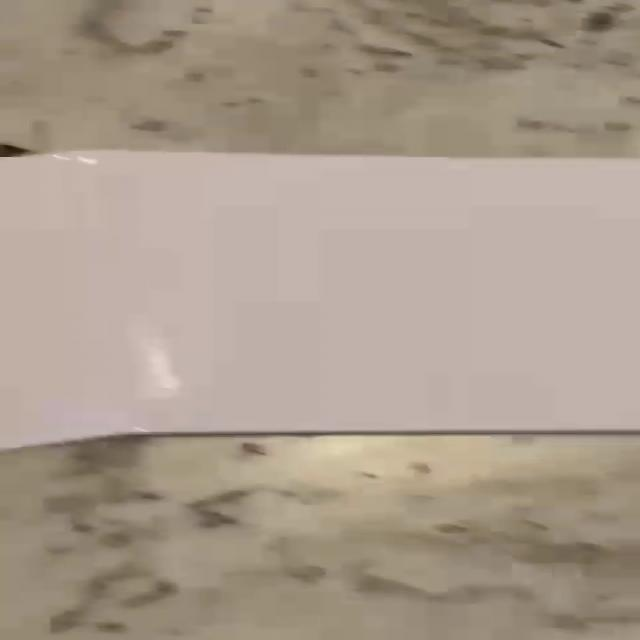road: (3, 151, 640, 448)
